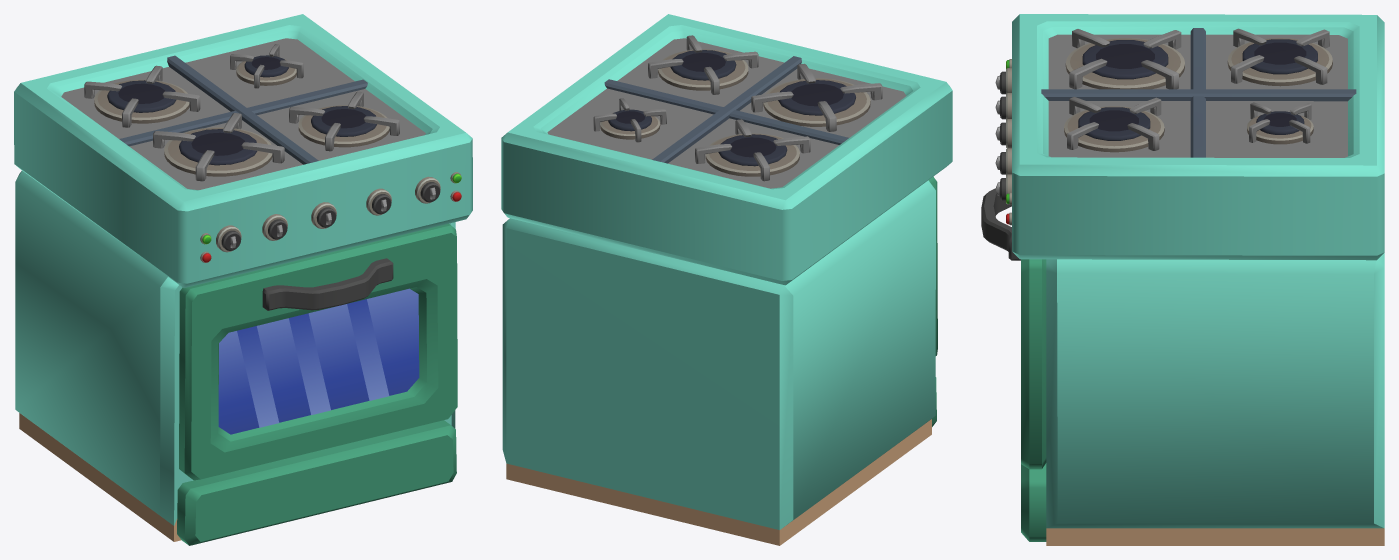
The model's file is Owen_C.glb.
The picture shows the model from 3 angles, left to right: view 1: azimuth 30°, elevation 25°; view 2: azimuth 150°, elevation 25°; view 3: azimuth 270°, elevation 25°; orthographic projection. The views are drawn at different scales.
Visible parts, largest first — view 1: Owen_C, OwenDoor_C; view 2: Owen_C; view 3: Owen_C, OwenDoor_C.
Part boxes in pixels (left/top/right/bottom): Owen_C: left=14, top=14, right=472, bottom=545; OwenDoor_C: left=179, top=223, right=457, bottom=480; Owen_C: left=501, top=14, right=952, bottom=545; Owen_C: left=995, top=14, right=1384, bottom=545; OwenDoor_C: left=981, top=188, right=1046, bottom=469.
Size of the model in its own units: 0.9 by 1.04 by 0.974.
Materials: 1 (1 with a texture image).
